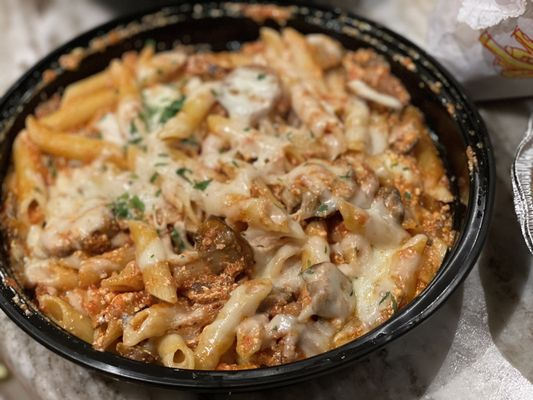sushi: (8, 0, 499, 397)
